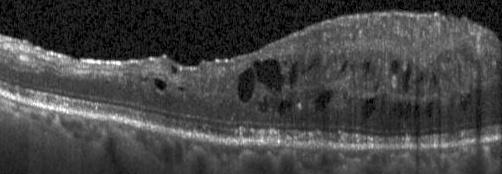intraretinal_cyst: (254, 59, 286, 91), (238, 67, 255, 103), (315, 90, 332, 112), (361, 98, 376, 120), (301, 57, 319, 74), (415, 66, 424, 97), (288, 62, 298, 89), (403, 63, 412, 91), (277, 101, 292, 116), (460, 94, 471, 112), (258, 94, 268, 112), (154, 78, 167, 91), (375, 70, 381, 91), (476, 88, 482, 106), (363, 58, 370, 73), (391, 60, 398, 73), (340, 61, 348, 72), (427, 102, 433, 116), (432, 71, 438, 85), (406, 101, 411, 115), (414, 102, 419, 114), (399, 101, 403, 115), (350, 61, 355, 71), (171, 65, 177, 73), (178, 86, 184, 91), (283, 61, 288, 67), (393, 103, 396, 113)
